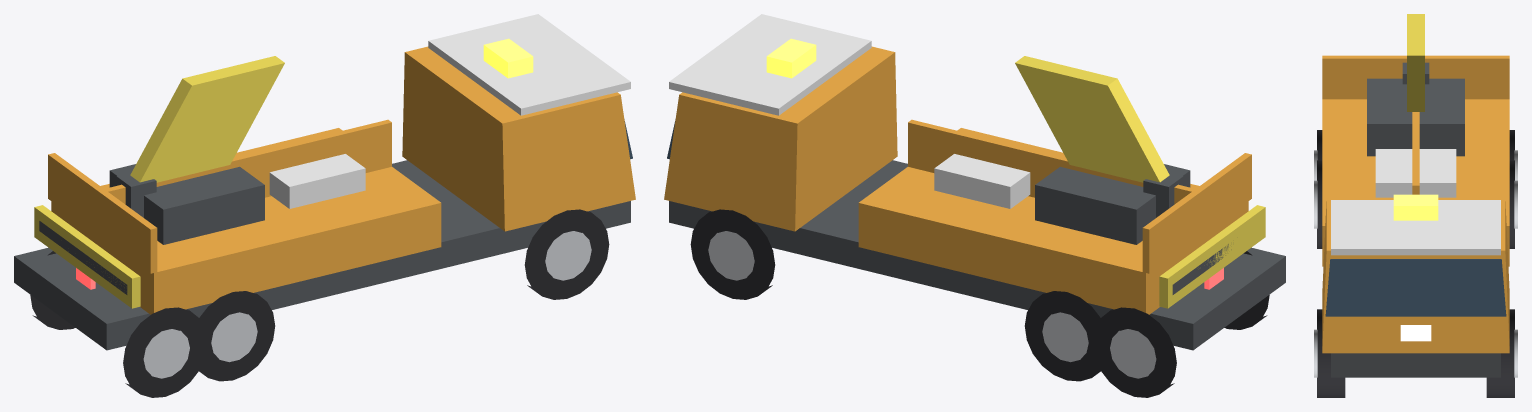
File: maintenance.glb
The picture shows the model from 3 angles, left to right: view 1: azimuth 30°, elevation 25°; view 2: azimuth 150°, elevation 25°; view 3: azimuth 270°, elevation 25°; orthographic projection. The views are drawn at different scales.
Visible parts, largest first — view 1: RoadGuard maintenance unit; view 2: RoadGuard maintenance unit; view 3: RoadGuard maintenance unit.
Part boxes in pixels (bbox=[...]): RoadGuard maintenance unit: bbox=[14, 14, 635, 397]; RoadGuard maintenance unit: bbox=[664, 14, 1285, 397]; RoadGuard maintenance unit: bbox=[1314, 14, 1517, 397].
Bounding box in the file's own units: 6.25 × 2.9 × 2.28.
